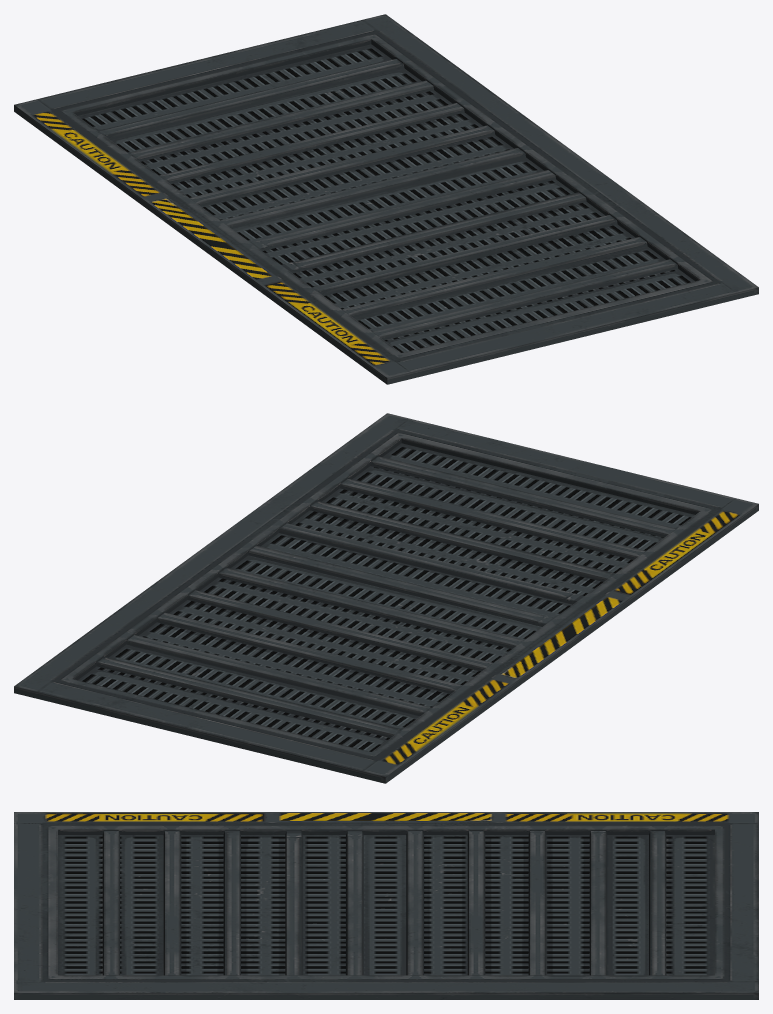
The model's file is CP_Vent_Grate_01.fbx.
The picture shows the model from 3 angles, top to bottom: view 1: azimuth 30°, elevation 25°; view 2: azimuth 150°, elevation 25°; view 3: azimuth 270°, elevation 25°; orthographic projection.
Visible parts, largest first — view 1: CP_Vent_Grate_01; view 2: CP_Vent_Grate_01; view 3: CP_Vent_Grate_01.
Part boxes in pixels (box(x1,y1,x2,y2)): CP_Vent_Grate_01: box(14, 14, 758, 384); CP_Vent_Grate_01: box(14, 413, 758, 783); CP_Vent_Grate_01: box(14, 812, 758, 999).
Size of the model in its own units: 158 by 2.76 by 275.
